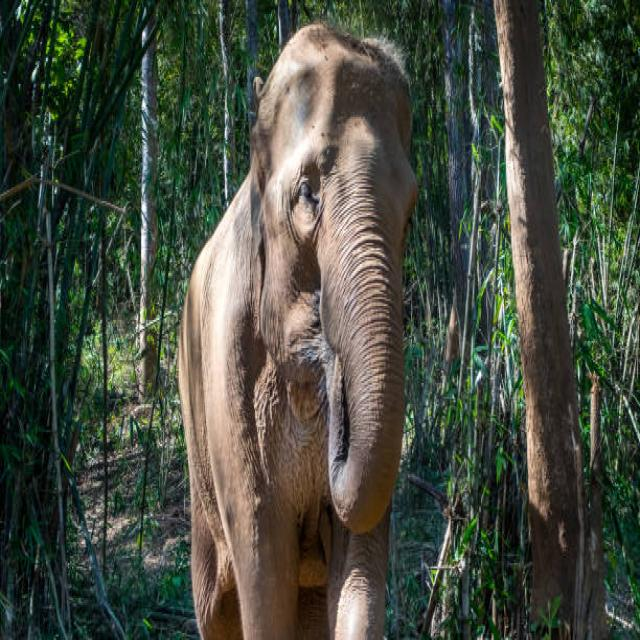Elephant: (170, 8, 421, 640)
